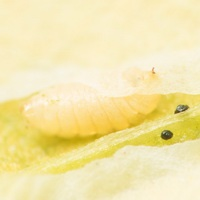insect: (174, 105, 188, 113)
